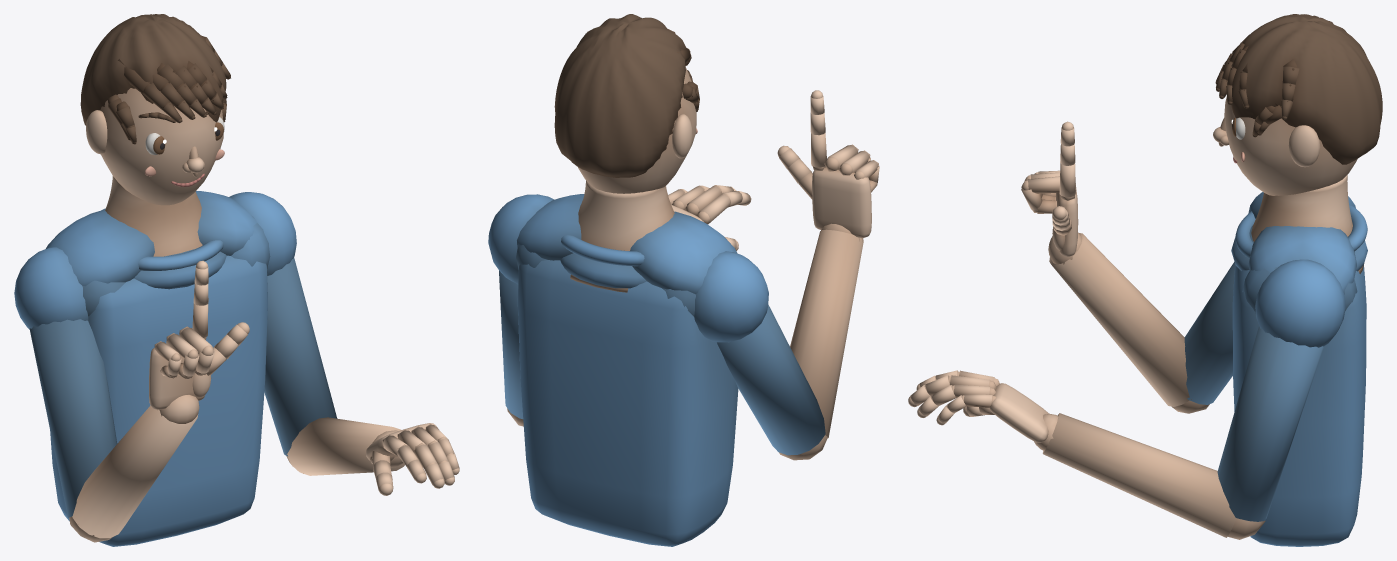
3 renders of one model, left to right at view 1: azimuth 30°, elevation 25°; view 2: azimuth 150°, elevation 25°; view 3: azimuth 270°, elevation 25°, orthographic.
Visible parts, largest first — view 1: LSC_Body; view 2: LSC_Body; view 3: LSC_Body.
Boxes of the visible parts, box(x1,y1,x2,y2) form: LSC_Body: box(14, 14, 459, 546); LSC_Body: box(488, 14, 879, 546); LSC_Body: box(908, 14, 1382, 546).
Bounding box in the file's own units: 0.4304 × 0.713 × 0.6104.
